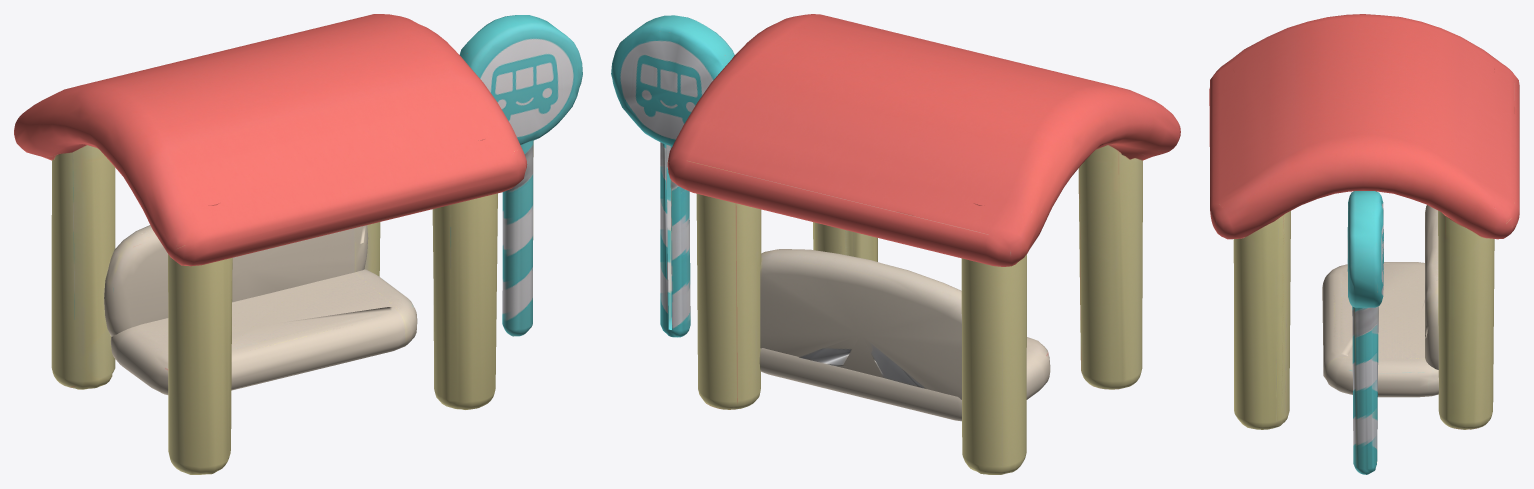
File: bus_stop.glb
3 renders of one model, left to right at view 1: azimuth 30°, elevation 25°; view 2: azimuth 150°, elevation 25°; view 3: azimuth 270°, elevation 25°, orthographic. The views are drawn at different scales.
Bounding box in the file's own units: 0.958 × 0.6265 × 0.605.
Materials: 1 (1 with a texture image).
